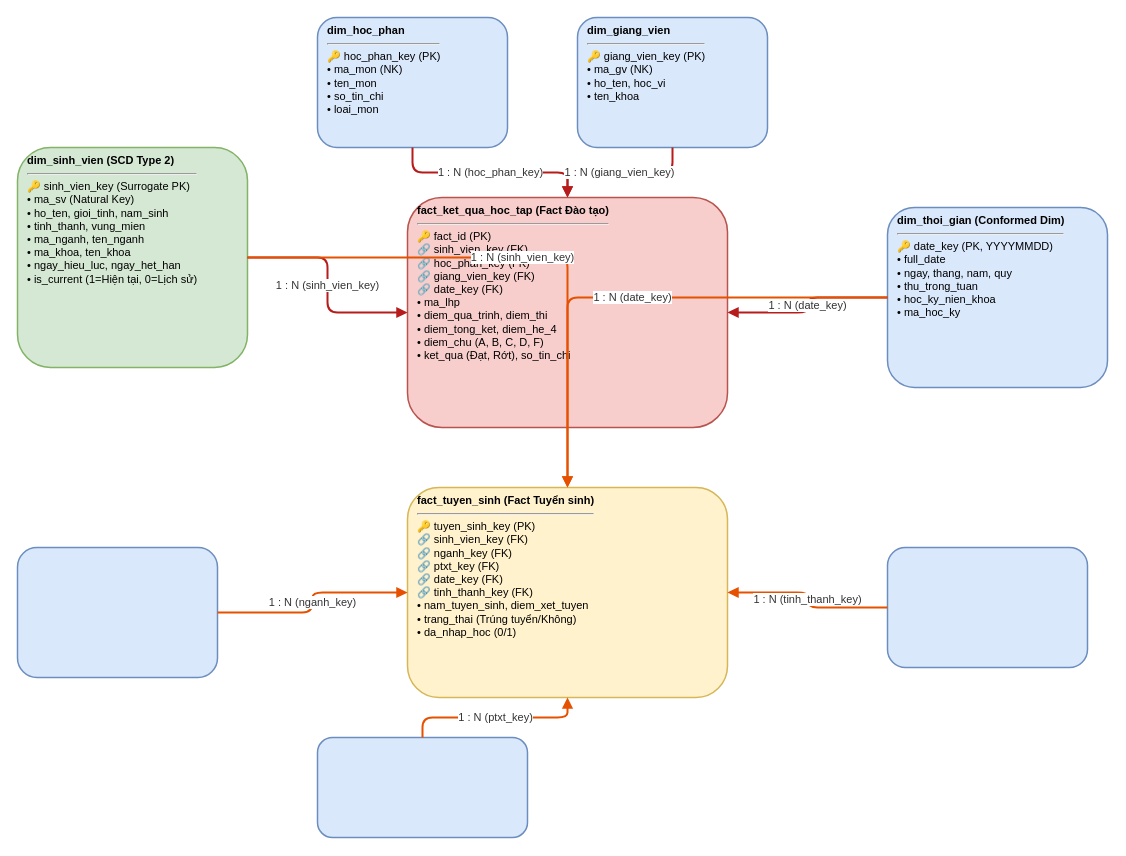
The diagram is 1126 pixels wide and 856 high, and some of its shapes have lost their labels. The box of each missing label's shape, as (x1, y1, x2, y2) in pixels:
dim_nganh 🔑 nganh_key (PK) • ma_nganh (NK) • ten_nganh • ten_khoa, he_dao_tao: (16, 546, 218, 678)
dim_phuong_thuc_xt 🔑 ptxt_key (PK) • ma_ptxt (NK) • ten_ptxt: (316, 736, 528, 838)
dim_tinh_thanh 🔑 tinh_thanh_key (PK) • ten_tinh_thanh • vung_mien: (886, 546, 1088, 668)
